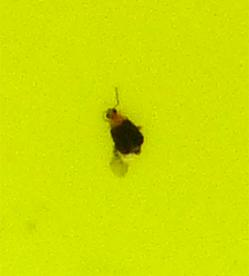Coleoptera: (100, 100, 149, 176)
